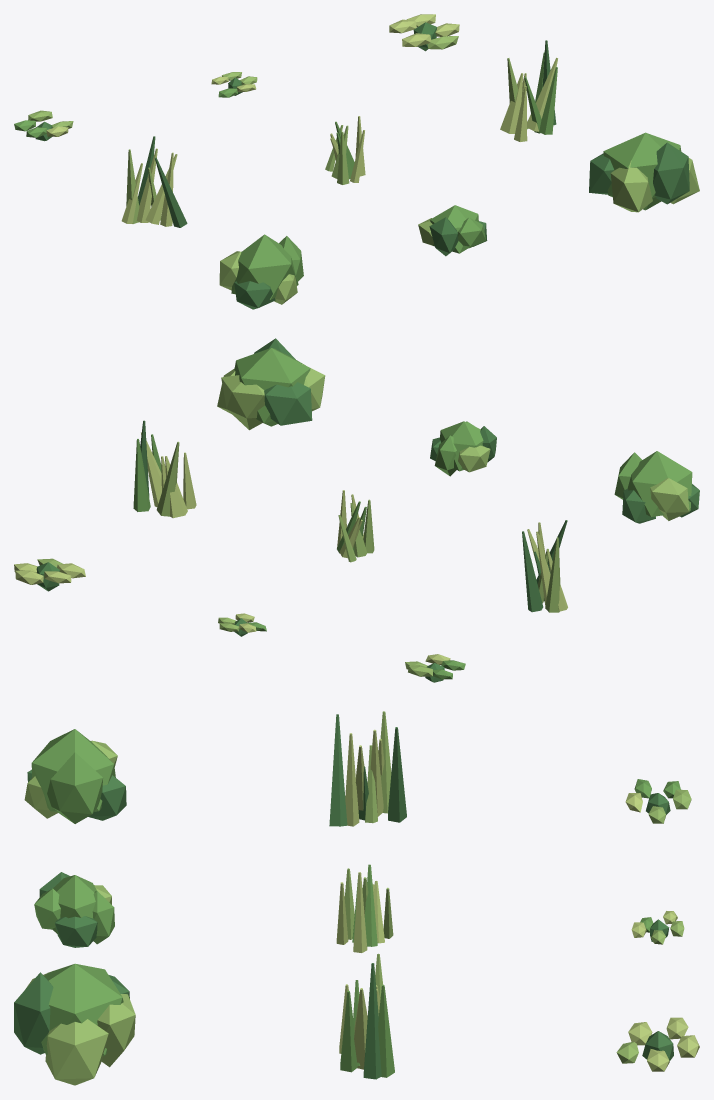
The model's file is Vegetation_Collection.fbx.
3 renders of one model, top to bottom at view 1: azimuth 30°, elevation 25°; view 2: azimuth 150°, elevation 25°; view 3: azimuth 270°, elevation 25°, orthographic. The views are drawn at different scales.
Parts seen in each view (by area): view 1: Bush_01_Foliage_Central, Bush_03_Foliage_Central, Bush_03_Foliage_Side_5, Bush_03_Foliage_Side_4, Bush_01_Foliage_Side_4, Bush_03_Foliage_Side_3, Bush_02_Foliage_Side_4, Bush_02_Foliage_Central, Bush_02_Foliage_Side_5, Tall_Weeds_01_Foliage_Blade_6, Tall_Weeds_03_Foliage_Blade_9, Bush_01_Foliage_Side_3 (+6 smaller); view 2: Bush_03_Foliage_Central, Bush_01_Foliage_Central, Bush_03_Foliage_Side_3, Bush_03_Foliage_Side_2, Bush_01_Foliage_Side_3, Bush_02_Foliage_Central, Tall_Weeds_03_Foliage_Blade_6, Tall_Weeds_01_Foliage_Blade_3, Tall_Weeds_01_Foliage_Blade_8, Tall_Weeds_03_Foliage_Blade_5, Bush_01_Foliage_Side_2, Bush_02_Foliage_Side_3 (+4 smaller); view 3: Bush_03_Foliage_Central, Bush_03_Foliage_Side_1, Bush_01_Foliage_Side_1, Bush_01_Foliage_Central, Bush_03_Foliage_Side_5, Bush_03_Foliage_Side_2, Bush_02_Foliage_Central, Tall_Weeds_03_Foliage_Blade_4, Tall_Weeds_01_Foliage_Blade_6, Tall_Weeds_01_Foliage_Blade_3, Bush_02_Foliage_Side_1, Tall_Weeds_03_Foliage_Blade_6 (+12 smaller).
Part boxes in pixels (box(x1,y1,x2,y2)): Bush_01_Foliage_Central: box(231, 234, 298, 299); Bush_03_Foliage_Central: box(603, 132, 681, 210); Bush_03_Foliage_Side_5: box(653, 142, 689, 204); Bush_03_Foliage_Side_4: box(610, 160, 652, 212); Bush_01_Foliage_Side_4: box(234, 281, 275, 309); Bush_03_Foliage_Side_3: box(589, 153, 614, 194); Bush_02_Foliage_Side_4: box(429, 217, 458, 256); Bush_02_Foliage_Central: box(430, 205, 478, 253); Bush_02_Foliage_Side_5: box(457, 217, 486, 248); Tall_Weeds_01_Foliage_Blade_6: box(155, 157, 187, 227); Tall_Weeds_03_Foliage_Blade_9: box(539, 67, 557, 134); Bush_01_Foliage_Side_3: box(219, 251, 241, 290); Bush_03_Foliage_Central: box(234, 348, 310, 426); Bush_01_Foliage_Central: box(627, 451, 692, 516); Bush_03_Foliage_Side_3: box(264, 382, 312, 425); Bush_03_Foliage_Side_2: box(221, 375, 264, 430); Bush_01_Foliage_Side_3: box(650, 478, 689, 520); Bush_02_Foliage_Central: box(439, 421, 483, 471); Tall_Weeds_03_Foliage_Blade_6: box(133, 439, 150, 511); Tall_Weeds_01_Foliage_Blade_3: box(522, 531, 543, 612); Tall_Weeds_01_Foliage_Blade_8: box(545, 537, 560, 612); Tall_Weeds_03_Foliage_Blade_5: box(156, 441, 179, 516); Bush_01_Foliage_Side_2: box(622, 488, 655, 523); Bush_02_Foliage_Side_3: box(458, 445, 490, 472); Bush_03_Foliage_Central: box(41, 963, 123, 1055); Bush_03_Foliage_Side_1: box(45, 1019, 108, 1085); Bush_01_Foliage_Side_1: box(47, 752, 102, 823); Bush_01_Foliage_Central: box(31, 729, 115, 811); Bush_03_Foliage_Side_5: box(14, 972, 53, 1054); Bush_03_Foliage_Side_2: box(97, 994, 135, 1067); Bush_02_Foliage_Central: box(52, 875, 96, 933); Tall_Weeds_03_Foliage_Blade_4: box(363, 963, 381, 1079); Tall_Weeds_01_Foliage_Blade_6: box(329, 714, 347, 826); Tall_Weeds_01_Foliage_Blade_3: box(388, 727, 406, 822); Bush_02_Foliage_Side_1: box(55, 916, 97, 947); Tall_Weeds_03_Foliage_Blade_6: box(378, 985, 394, 1077).
Bounding box in the file's own units: 7.34 × 1.3 × 7.06.
